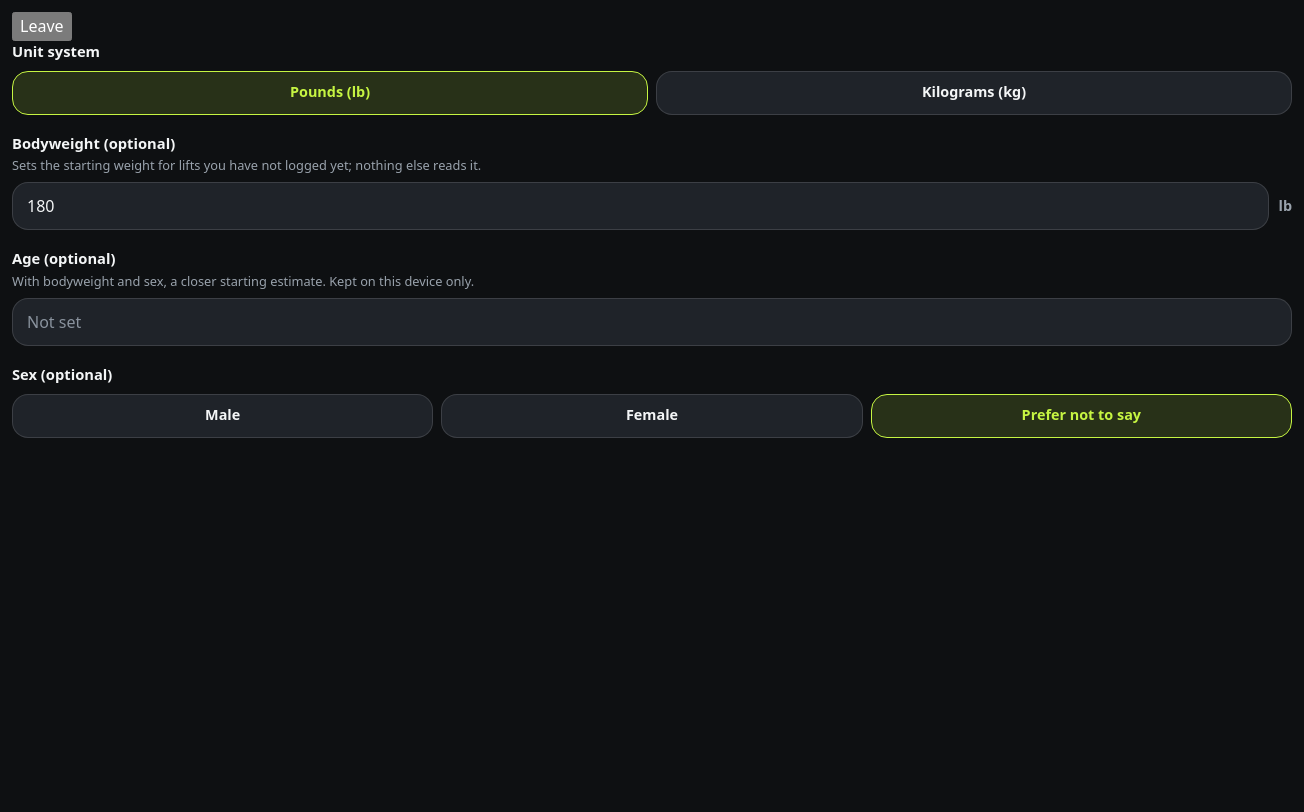
UnitsEditor: a bodyweight that looks like a slip (Maintenance 26, item 40) › keeps it with one tap
Replace the text in the number field labelled "Bodyweight (optional)" with "240": x=640, y=206 [12,182,1268,230]
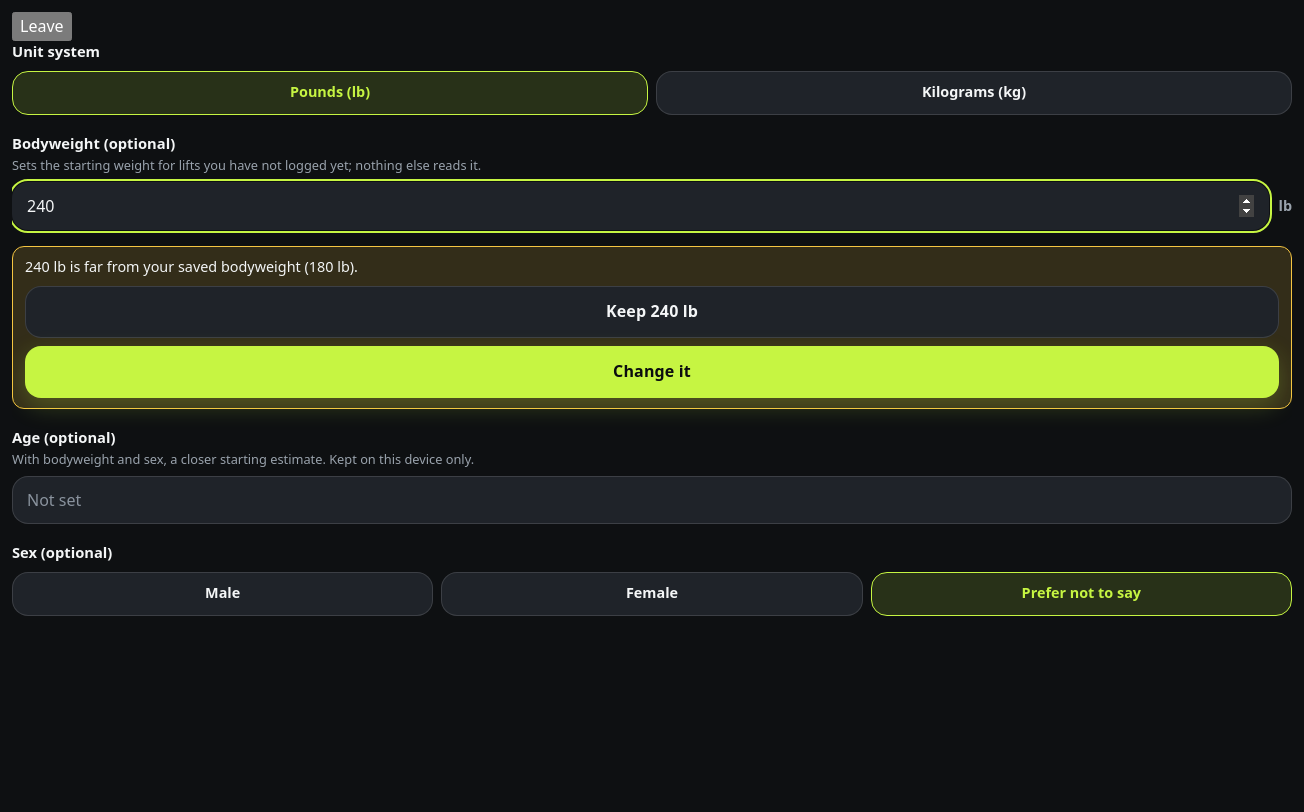
Expected: the message reads "240 lb is far from your saved bodyweight (180 lb).", [25,257,358,276]
Click the button with test id "slip-keep": x=652, y=312 [25,286,1279,338]
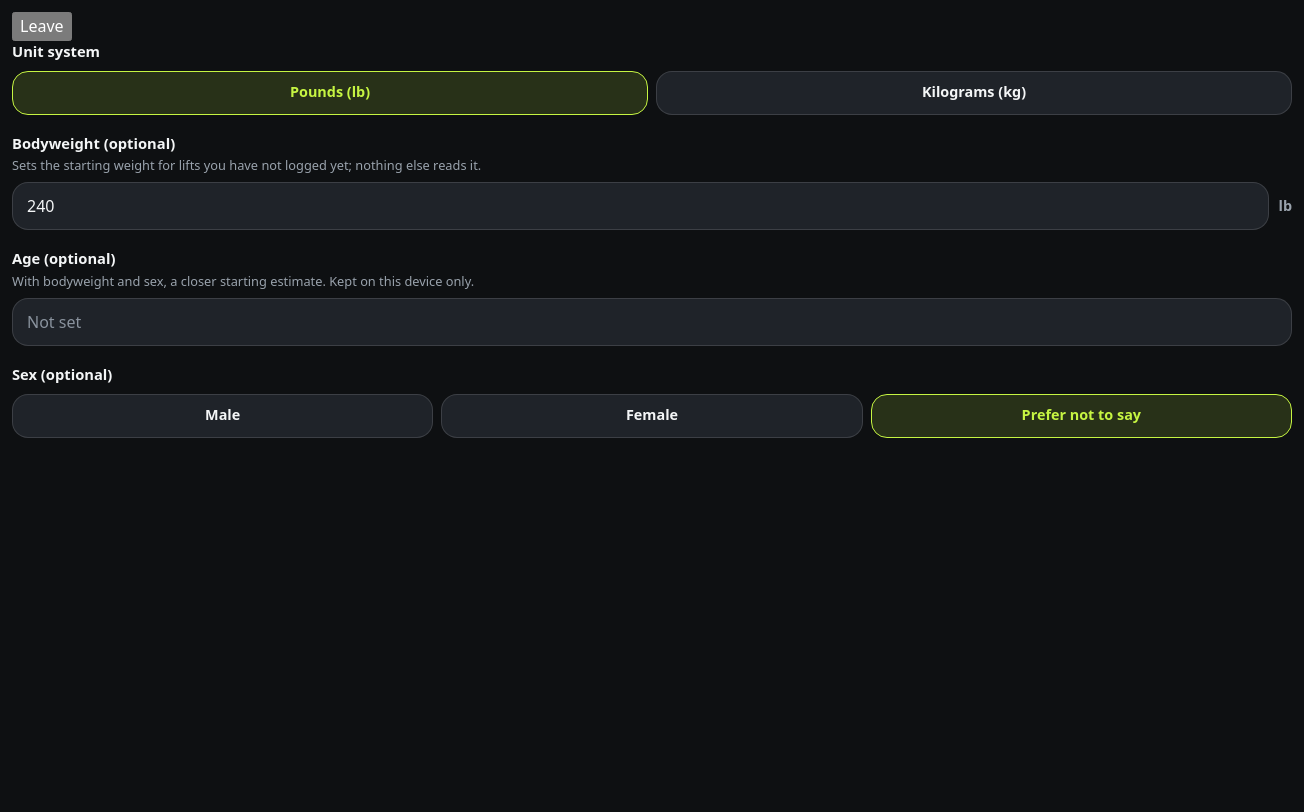
Expected: the element with test id "slip-question" is gone
